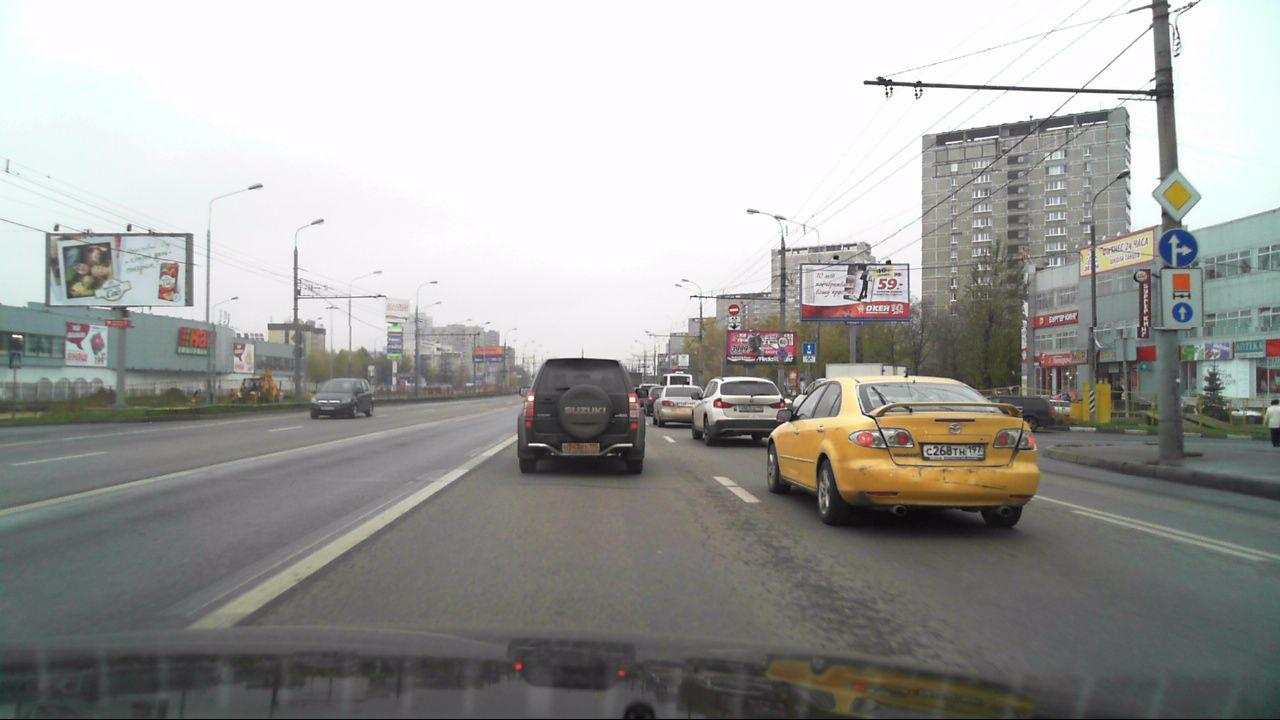2_1: (1150, 168, 1202, 220)
3_1: (728, 304, 741, 315)
3_24: (778, 336, 788, 347)
3_27: (777, 348, 789, 361)
4_1_4: (1156, 226, 1198, 267)
4_8_2: (1161, 270, 1203, 330)
5_14_1: (803, 343, 816, 355)
8_14: (728, 323, 741, 330)
8_5_2: (803, 355, 816, 363), (728, 316, 741, 322)
